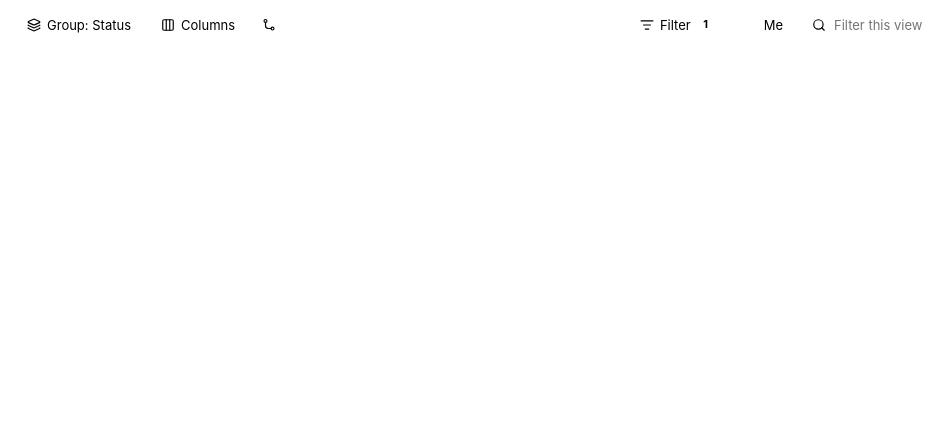
Test: Toolbar page actions › toolbar.group › opens the group menu from the Group button
This screenshot has width=939, height=423.
Step 1. Click the button "Group: Status" → (79, 25), box left=16, top=10, right=142, bottom=40
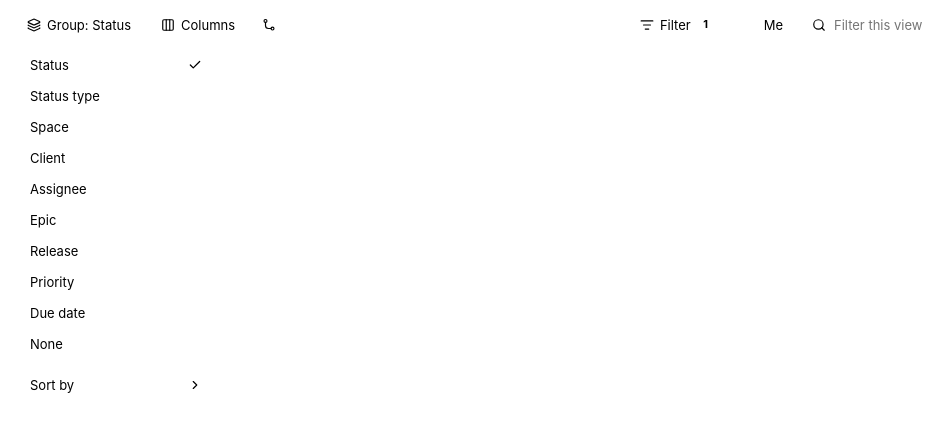
Check: the menu named "Group" is shown, box left=16, top=44, right=216, bottom=406
